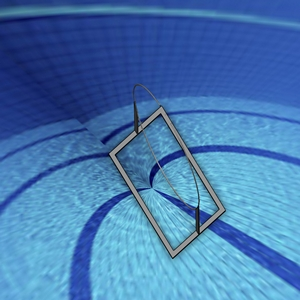circle: (107, 82, 226, 258)
